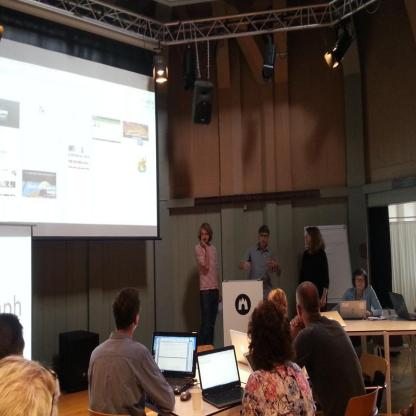board: (194, 338, 244, 412), (152, 332, 198, 395), (389, 290, 416, 322), (341, 300, 368, 320), (320, 310, 346, 328)
